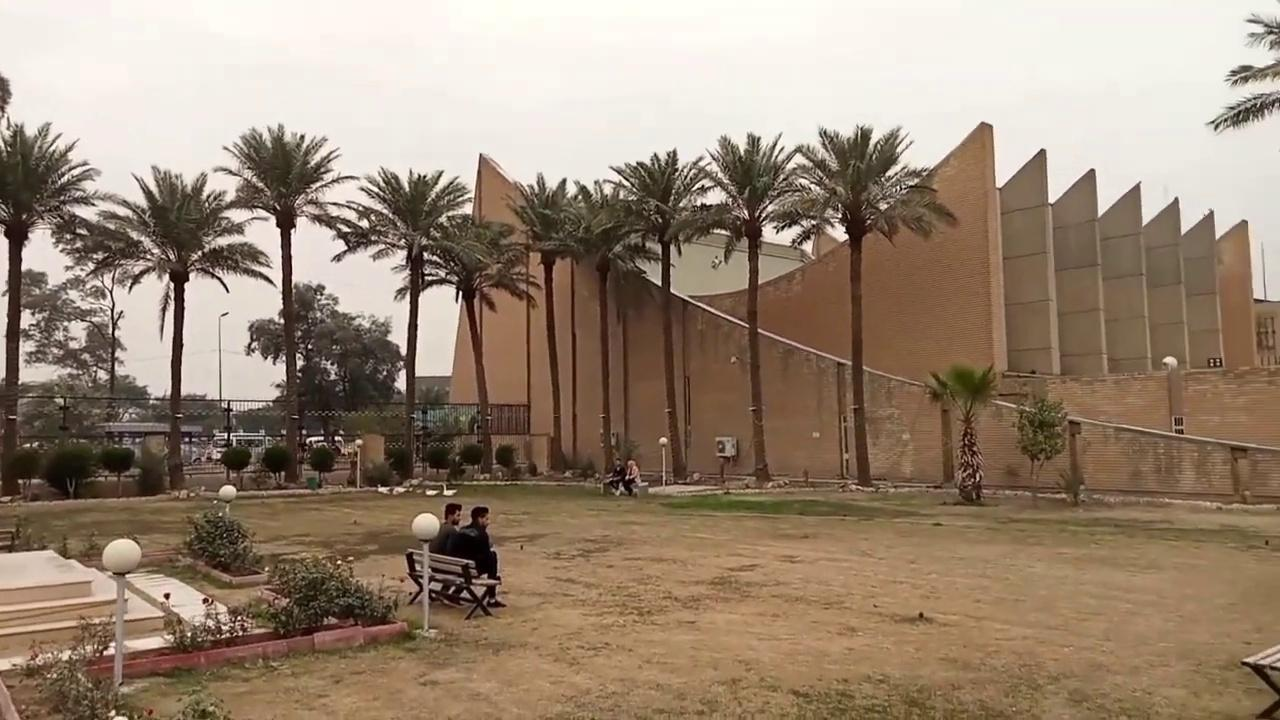person: (445, 505, 507, 607), (405, 502, 462, 605), (605, 457, 625, 495), (622, 457, 640, 496)
tree: (775, 121, 957, 486), (88, 164, 276, 491), (212, 122, 359, 483), (682, 130, 812, 484), (328, 165, 474, 477), (592, 147, 718, 483), (0, 116, 100, 497), (397, 213, 541, 477), (553, 178, 656, 475), (245, 280, 405, 458), (500, 171, 583, 473), (1204, 2, 1279, 299), (55, 214, 145, 443), (271, 279, 341, 460), (923, 361, 998, 501), (1204, 2, 1279, 135), (180, 482, 269, 586), (1010, 394, 1068, 505), (923, 370, 955, 485), (42, 440, 97, 499), (134, 434, 168, 495), (7, 445, 42, 500), (98, 444, 134, 496), (260, 442, 294, 484), (218, 443, 251, 486), (308, 442, 335, 486), (384, 442, 414, 481), (456, 442, 484, 477), (424, 441, 451, 476), (361, 458, 393, 486), (494, 441, 517, 479)
